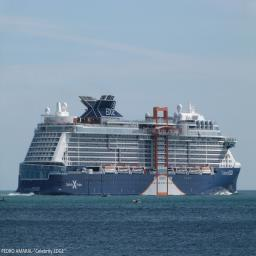cruises: (16, 97, 243, 199)
